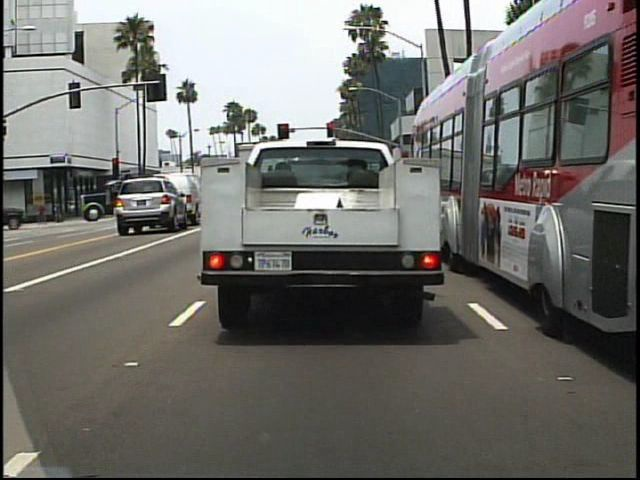person: (36, 195, 51, 224)
